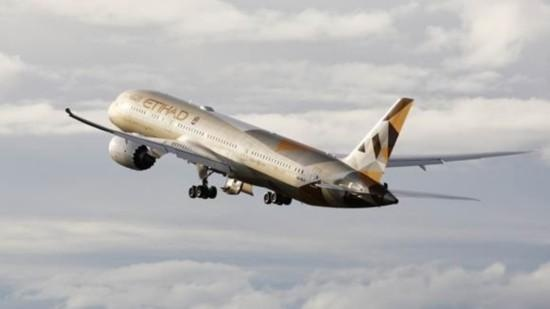airplane: (63, 91, 533, 208)
